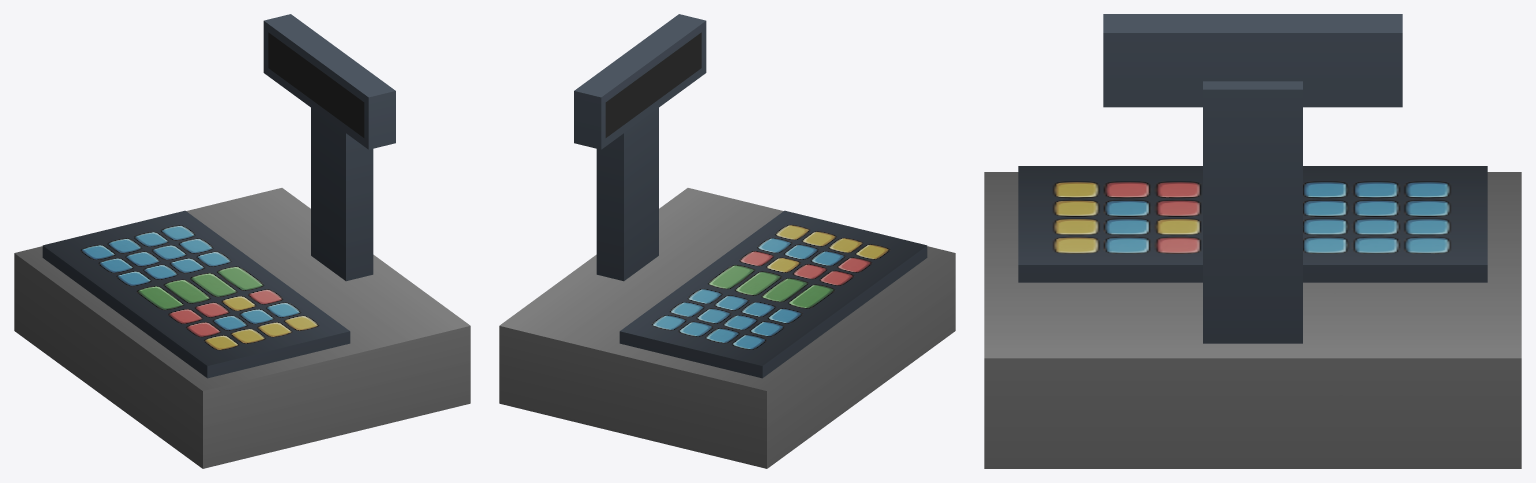
The model's file is DoubleCooked_CashRegister.fbx.
3 renders of one model, left to right at view 1: azimuth 30°, elevation 25°; view 2: azimuth 150°, elevation 25°; view 3: azimuth 270°, elevation 25°, orthographic. The views are drawn at different scales.
Visible parts, largest first — view 1: DoubleCooked_CashRegister; view 2: DoubleCooked_CashRegister; view 3: DoubleCooked_CashRegister.
Part boxes in pixels (<box>): DoubleCooked_CashRegister: <box>14,14,470,468</box>; DoubleCooked_CashRegister: <box>499,14,955,468</box>; DoubleCooked_CashRegister: <box>984,14,1521,468</box>.
Bounding box in the file's own units: 40.22 × 41.63 × 49.05.
1 material, 1 textured.
